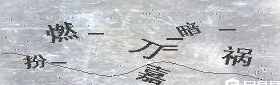chinese: (221, 42, 258, 70), (47, 17, 79, 46), (133, 38, 166, 61), (21, 48, 47, 71), (136, 65, 165, 85), (176, 19, 203, 38)
